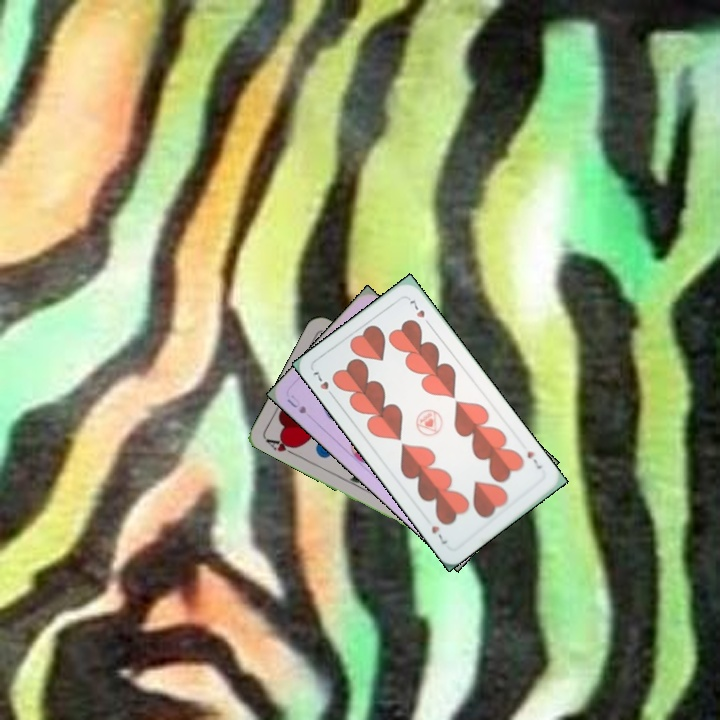H7: (309, 367, 338, 401), (523, 447, 544, 472)
HA: (262, 434, 300, 459)
SU: (283, 391, 309, 416)
